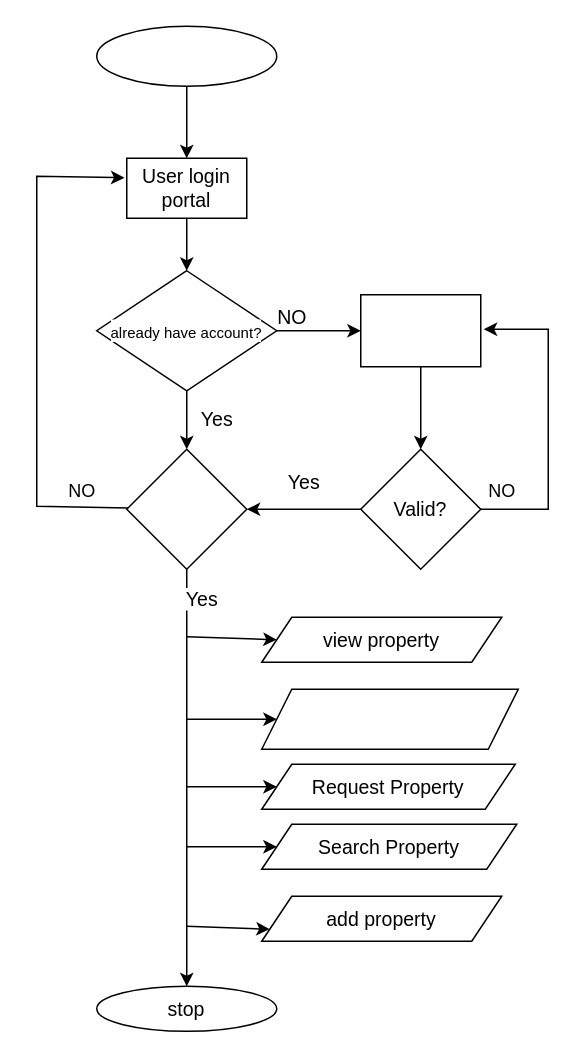
Some shapes in this 587 by 1058 pixel diagram are drawn without their labels. The shapes that lost their labels are listed below. From the top down, each one's box as (x1, y1, x2, y2) in pixels, then its label:
(95, 25, 277, 86): Start
(359, 293, 481, 367): Fill registration form
(125, 448, 247, 569): Login
(260, 688, 518, 749): cantact property owner
